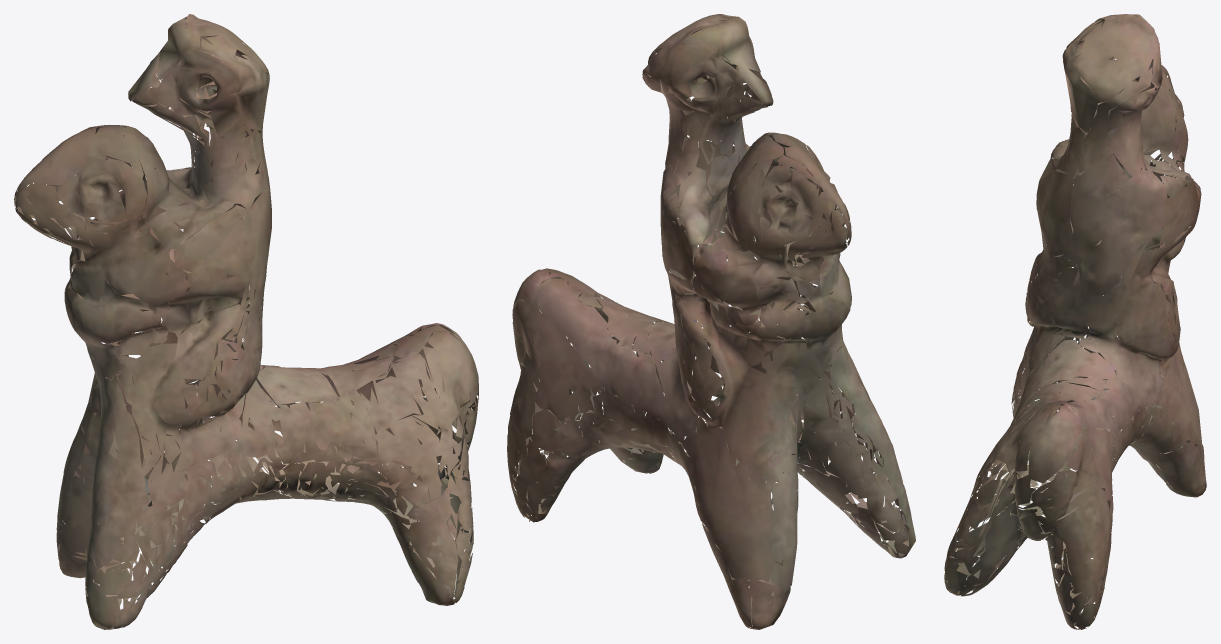
Rendered from hm-syro-hittite-horse-rider.glb.
3 views of the same model, side by side, from view 1: azimuth 30°, elevation 25°; view 2: azimuth 150°, elevation 25°; view 3: azimuth 270°, elevation 25° (orthographic). The views are drawn at different scales.
Parts seen in each view (by area): view 1: Object_2, Object_10, Object_3, Object_15, Object_4, Object_11, Object_12, Object_6, Object_9, Object_5, Object_8, Object_13 (+3 smaller); view 2: Object_12, Object_8, Object_16, Object_13, Object_15, Object_3, Object_14, Object_7, Object_4, Object_11, Object_5, Object_6 (+3 smaller); view 3: Object_9, Object_2, Object_13, Object_6, Object_8, Object_11, Object_4, Object_15, Object_12, Object_16, Object_7, Object_3 (+3 smaller).
Boxes of the visible parts, bbox=[...] form: Object_2: bbox=[85, 330, 478, 620]; Object_10: bbox=[45, 52, 468, 598]; Object_3: bbox=[86, 346, 478, 602]; Object_15: bbox=[78, 185, 461, 591]; Object_4: bbox=[66, 260, 478, 605]; Object_11: bbox=[14, 48, 469, 629]; Object_12: bbox=[16, 53, 467, 605]; Object_6: bbox=[58, 355, 473, 605]; Object_9: bbox=[15, 128, 469, 613]; Object_5: bbox=[89, 339, 472, 628]; Object_8: bbox=[56, 284, 471, 629]; Object_13: bbox=[15, 14, 472, 598]; Object_12: bbox=[610, 20, 851, 473]; Object_8: bbox=[511, 244, 911, 627]; Object_16: bbox=[523, 201, 906, 582]; Object_13: bbox=[602, 14, 849, 473]; Object_15: bbox=[569, 140, 898, 554]; Object_3: bbox=[521, 285, 910, 532]; Object_14: bbox=[517, 14, 889, 552]; Object_7: bbox=[509, 269, 908, 629]; Object_4: bbox=[513, 269, 900, 535]; Object_11: bbox=[513, 27, 915, 558]; Object_5: bbox=[509, 279, 909, 545]; Object_6: bbox=[534, 296, 906, 628]; Object_9: bbox=[971, 115, 1197, 547]; Object_2: bbox=[970, 254, 1142, 606]; Object_13: bbox=[945, 14, 1190, 595]; Object_6: bbox=[947, 293, 1205, 585]; Object_8: bbox=[964, 245, 1205, 629]; Object_11: bbox=[958, 21, 1197, 629]; Object_4: bbox=[944, 194, 1178, 618]; Object_15: bbox=[985, 155, 1187, 592]; Object_12: bbox=[947, 41, 1201, 596]; Object_16: bbox=[1010, 191, 1203, 616]; Object_7: bbox=[956, 275, 1206, 612]; Object_3: bbox=[944, 260, 1146, 593].
Size of the model in its own units: 0.0559 by 0.077 by 0.0352.
1 material, 1 textured.
